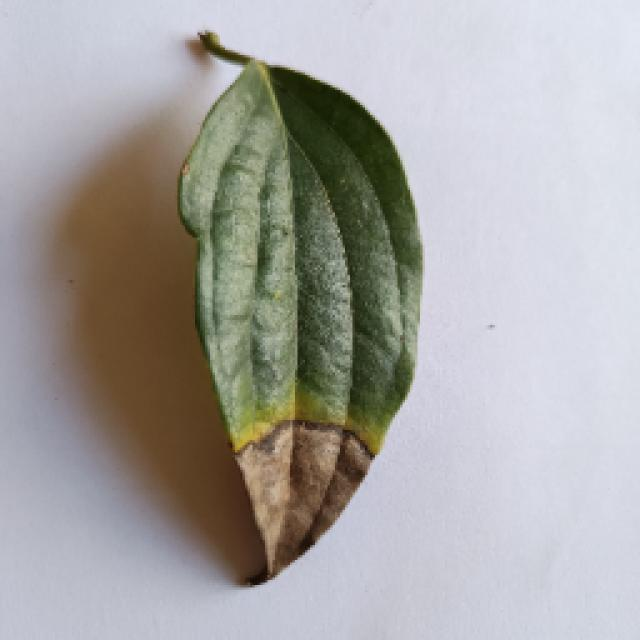footrot: (172, 35, 422, 587)
